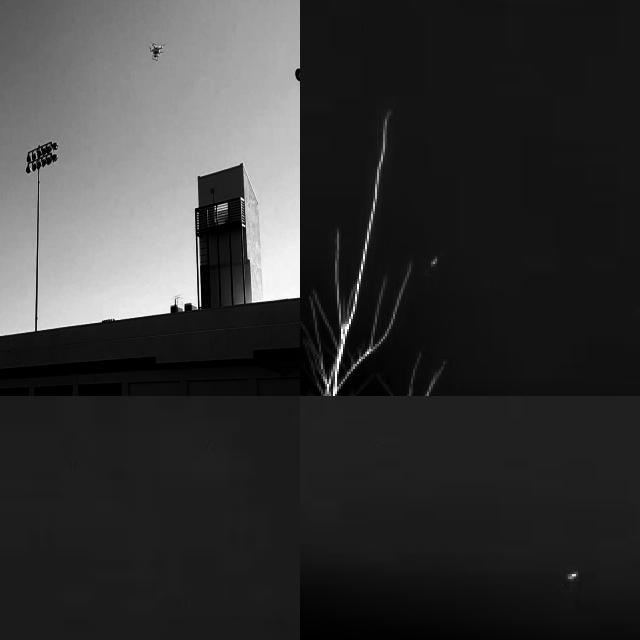0: (427, 249, 447, 279)
1: (555, 560, 591, 600)
drone: (149, 38, 165, 64)
